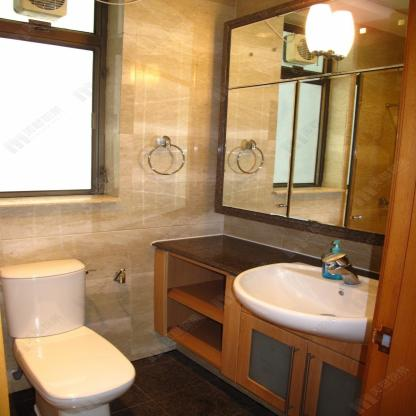Faucet: (318, 247, 362, 289)
Toilet: (0, 257, 137, 416)
Toilet Sink: (233, 262, 383, 342)
